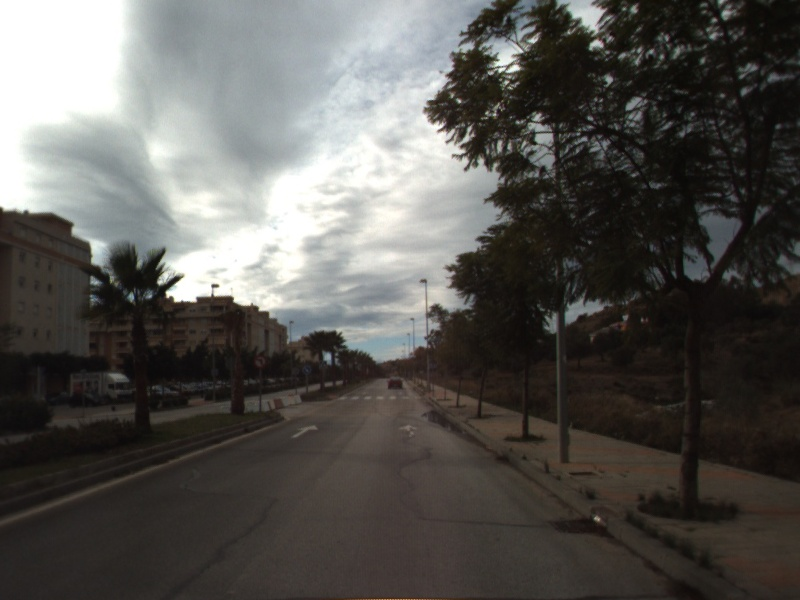STRAIGHT: (289, 423, 320, 441), (397, 422, 420, 440)
